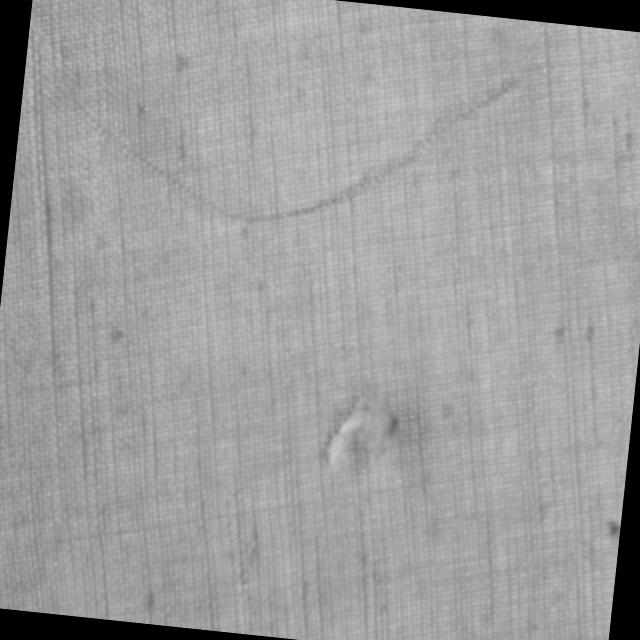objects: (12, 12, 520, 254), (318, 386, 407, 483)
